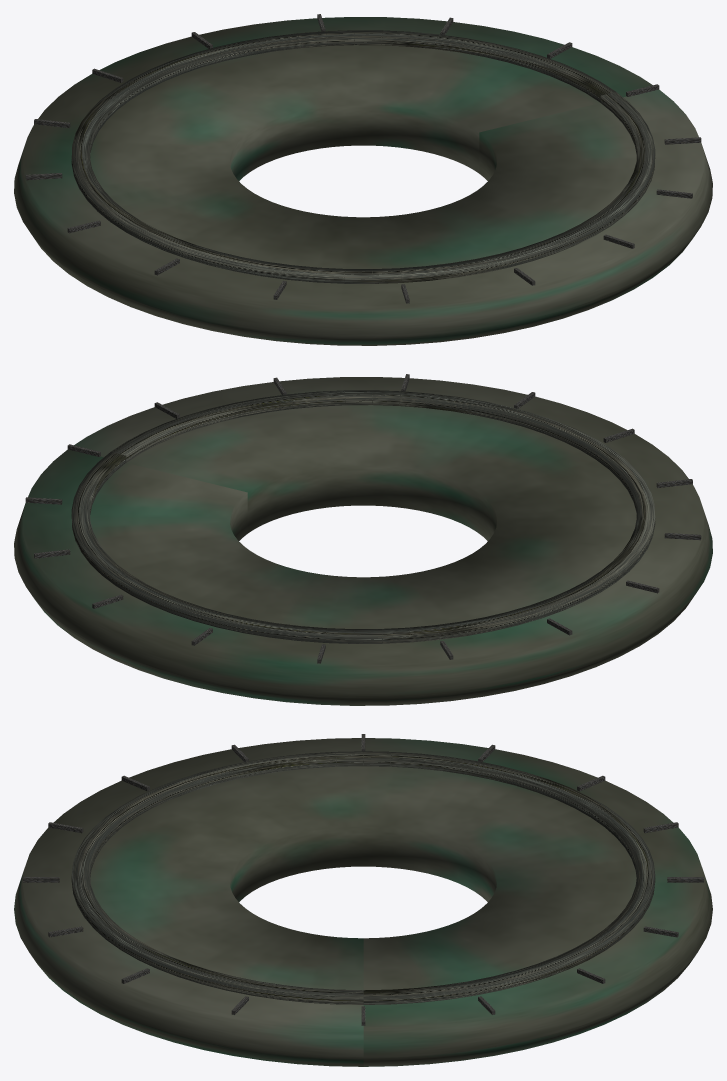
File: canal_annulus.glb
3 views of the same model, one above another, from view 1: azimuth 30°, elevation 25°; view 2: azimuth 150°, elevation 25°; view 3: azimuth 270°, elevation 25° (orthographic).
Parts seen in each view (by area): view 1: canal_annulus0; view 2: canal_annulus0; view 3: canal_annulus0.
Boxes of the visible parts, left/top/right/bottom form: canal_annulus0: left=14, top=14, right=712, bottom=345; canal_annulus0: left=14, top=374, right=712, bottom=705; canal_annulus0: left=14, top=734, right=712, bottom=1066.
Bounding box in the file's own units: 1.15 × 0.088 × 1.15.
1 material, 1 textured.
